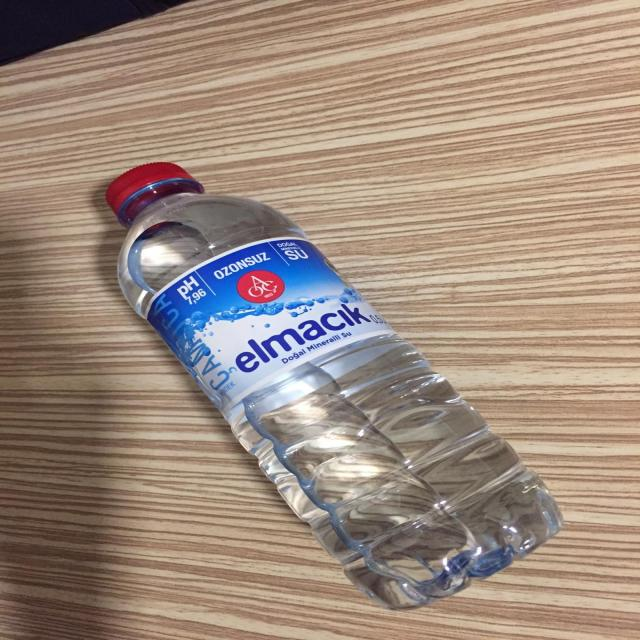bottle: (70, 148, 562, 616)
